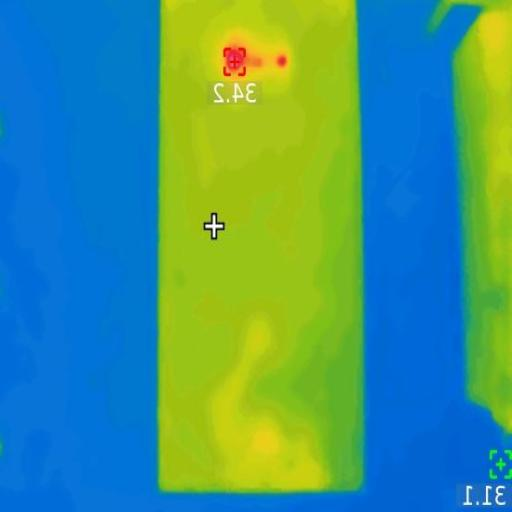hotspot: (216, 47, 250, 80), (268, 48, 294, 70)
